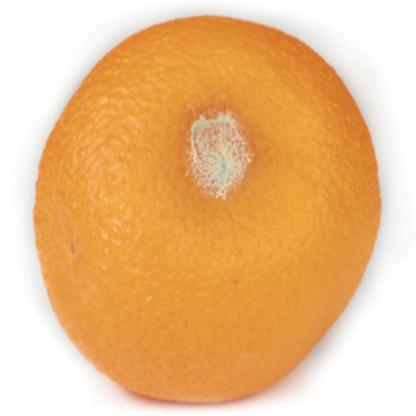rotten: (39, 14, 380, 402)
